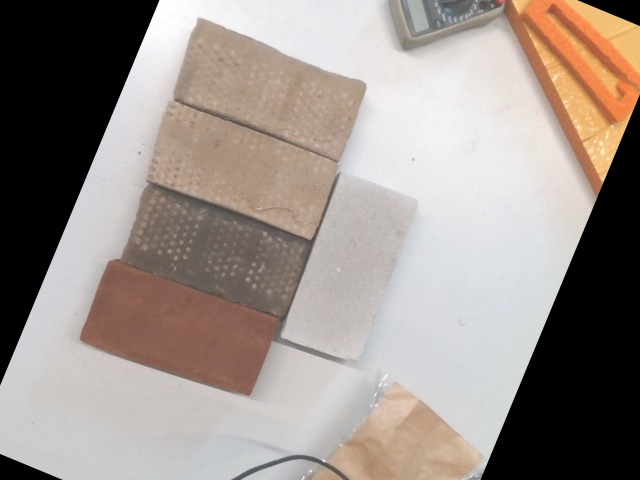brick: (80, 263, 279, 403), (281, 171, 416, 364), (145, 105, 338, 239), (122, 184, 310, 321), (174, 27, 365, 153)
